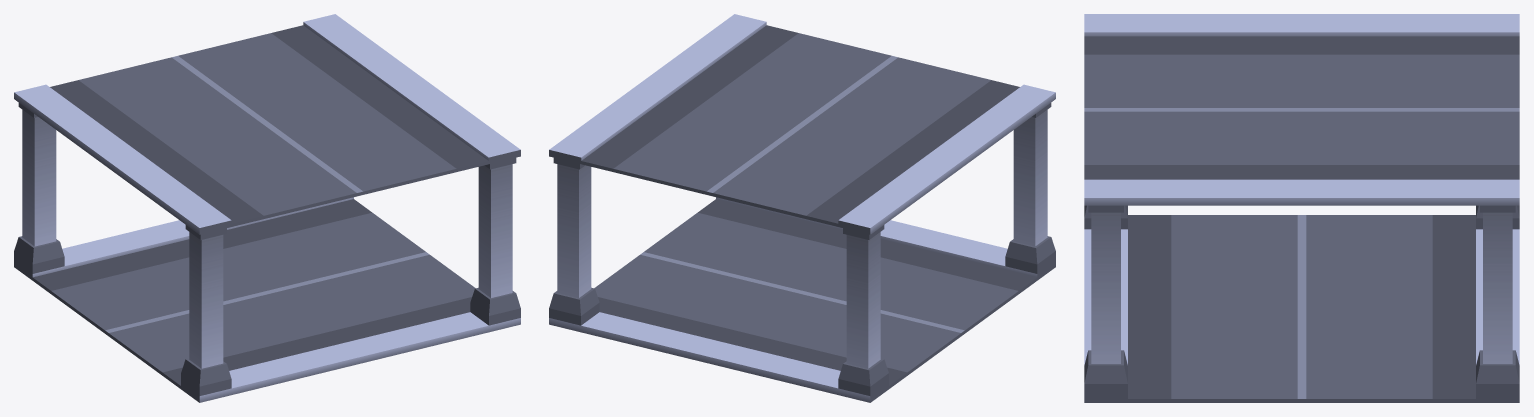
The model's file is road-bridge.fbx.
3 views of the same model, side by side, from view 1: azimuth 30°, elevation 25°; view 2: azimuth 150°, elevation 25°; view 3: azimuth 270°, elevation 25° (orthographic). The views are drawn at different scales.
Visible parts, largest first — view 1: road-bridge; view 2: road-bridge; view 3: road-bridge.
Boxes of the visible parts, x1,y1,x2,y2 form: road-bridge: (14,14,520,402); road-bridge: (549,14,1055,402); road-bridge: (1084,14,1519,402).
Bounding box in the file's own units: 100 × 52 × 100.
